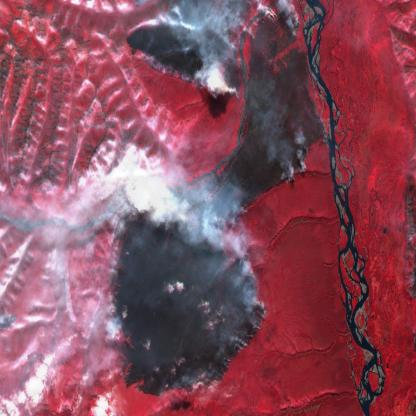fire: (101, 0, 335, 398), (0, 300, 22, 337)
